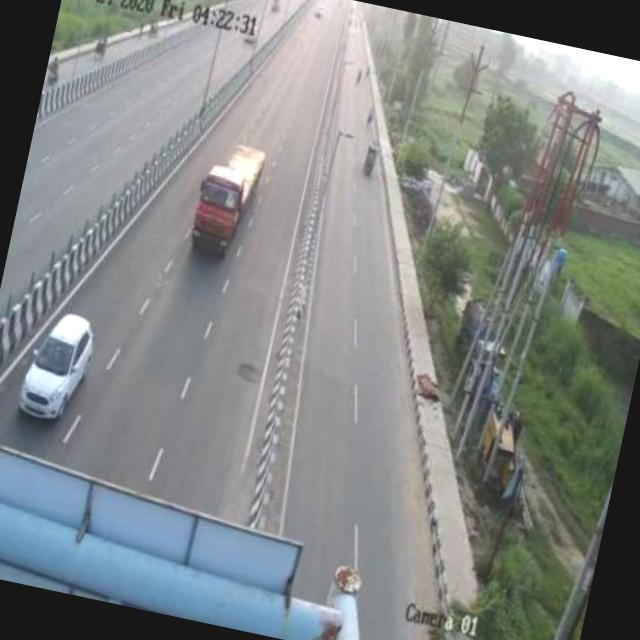car: (3, 302, 108, 438)
